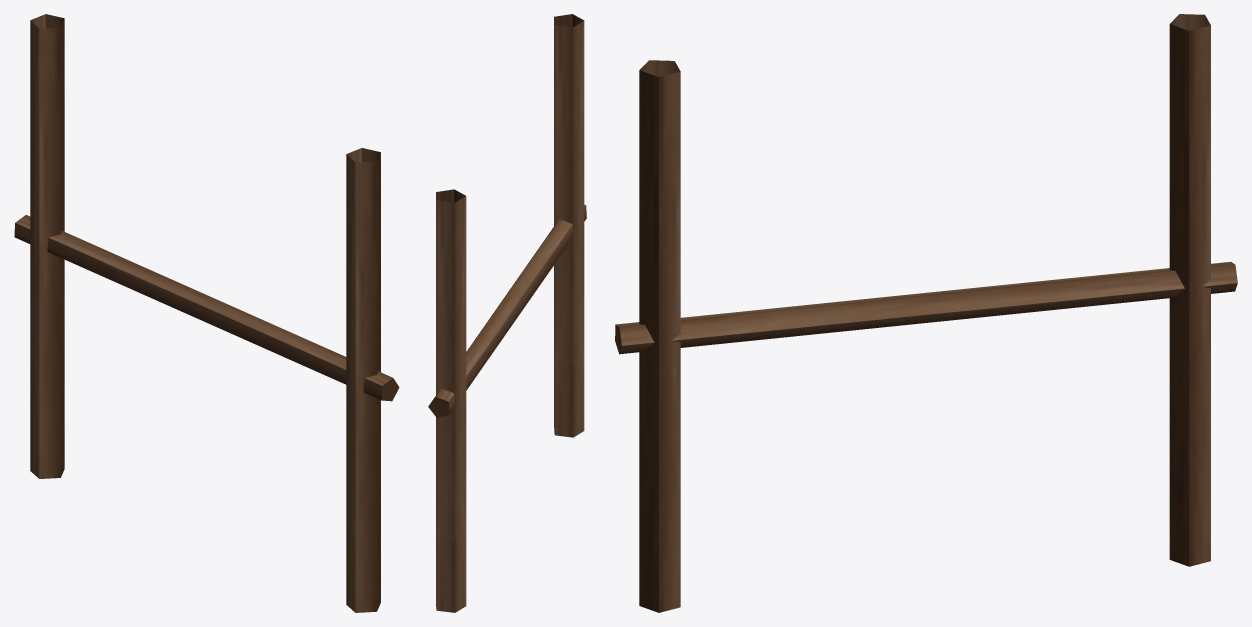
File: Area_07_25.fbx
3 views of the same model, side by side, from view 1: azimuth 30°, elevation 25°; view 2: azimuth 150°, elevation 25°; view 3: azimuth 270°, elevation 25° (orthographic). The views are drawn at different scales.
Visible parts, largest first — view 1: Area_07_25; view 2: Area_07_25; view 3: Area_07_25.
Boxes of the visible parts, left/top/right/bottom form: Area_07_25: left=14, top=14, right=399, bottom=612; Area_07_25: left=428, top=14, right=586, bottom=612; Area_07_25: left=615, top=14, right=1237, bottom=612.
Size of the model in its own units: 105 by 355 by 369.
